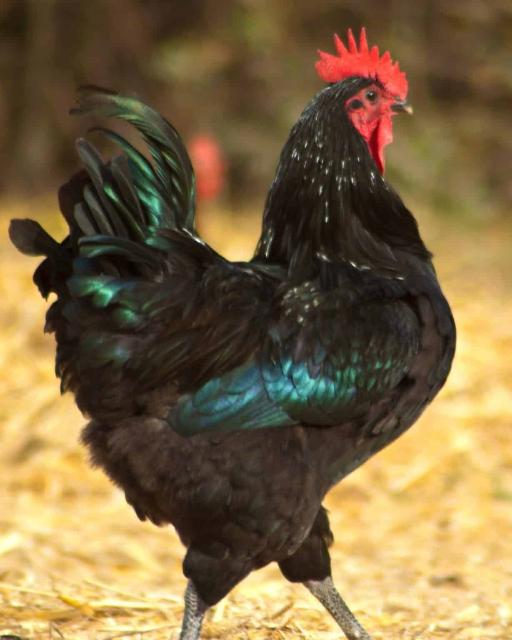Chicken: (8, 24, 457, 640)
